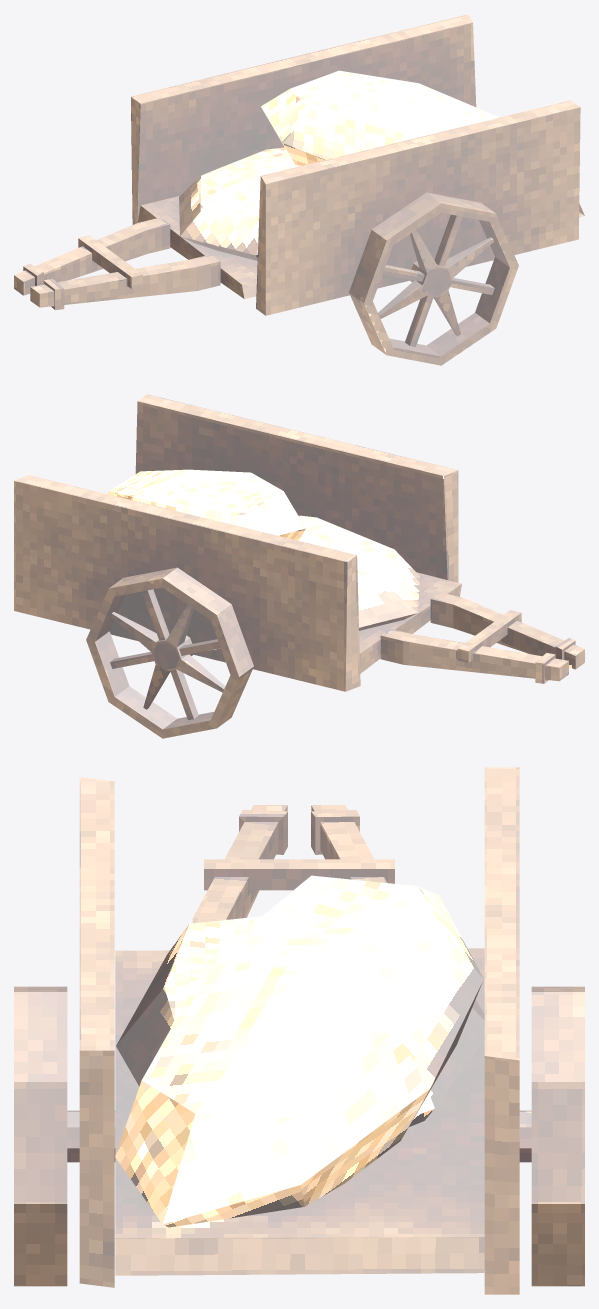
Rendered from Wooden_Cart_Var1.glb.
3 views of the same model, one above another, from view 1: azimuth 30°, elevation 25°; view 2: azimuth 150°, elevation 25°; view 3: azimuth 270°, elevation 25° (orthographic). The views are drawn at different scales.
Parts seen in each view (by area): view 1: Wooden_Cart_Variant_1; view 2: Wooden_Cart_Variant_1; view 3: Wooden_Cart_Variant_1.
Boxes of the visible parts, x1,y1,x2,y2 form: Wooden_Cart_Variant_1: (14, 14, 584, 365); Wooden_Cart_Variant_1: (14, 394, 584, 738); Wooden_Cart_Variant_1: (14, 767, 584, 1294).
Bounding box in the file's own units: 3.77 × 1.47 × 2.07.
